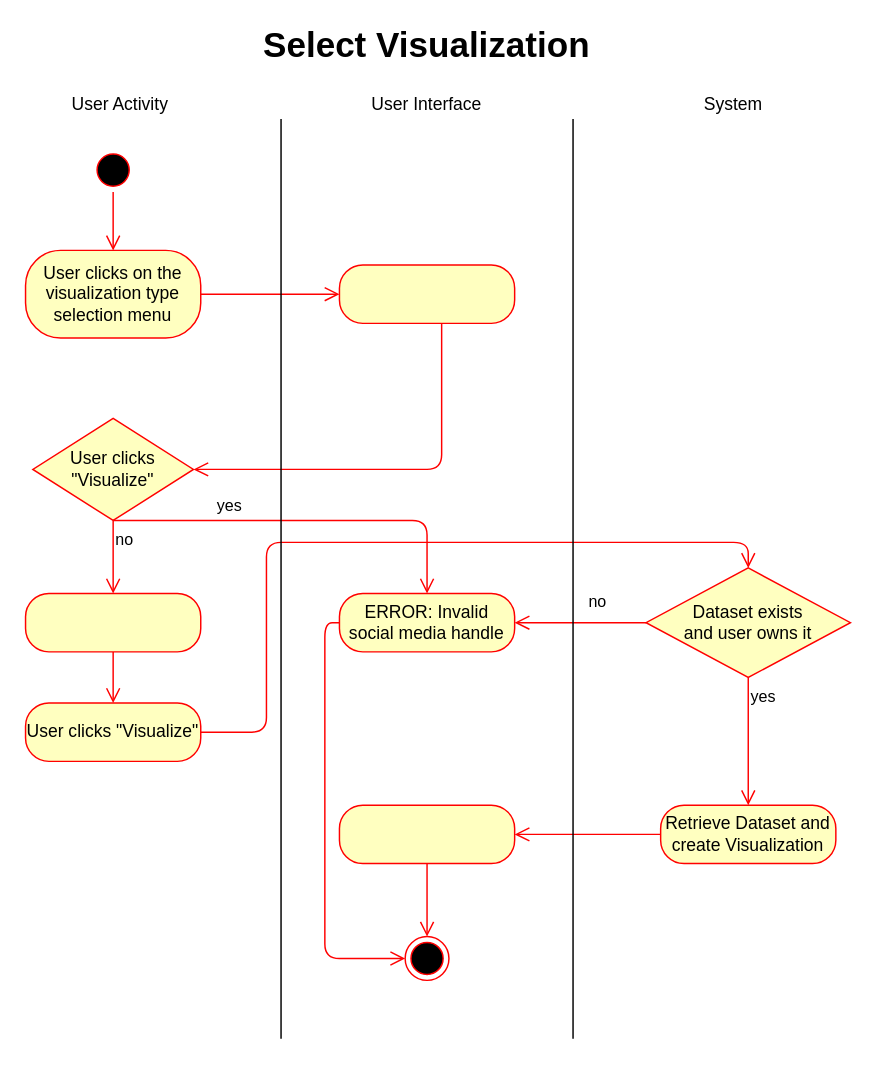
Image size: 876x1066. Some labels were removed from this diagram. The centre of each missing label's shape, as x and y in pixels:
"Show available visualization options" belongs at point (426, 293).
"Show Visualization" belongs at point (426, 834).
"User enters a social media user handle" belongs at point (112, 622).
